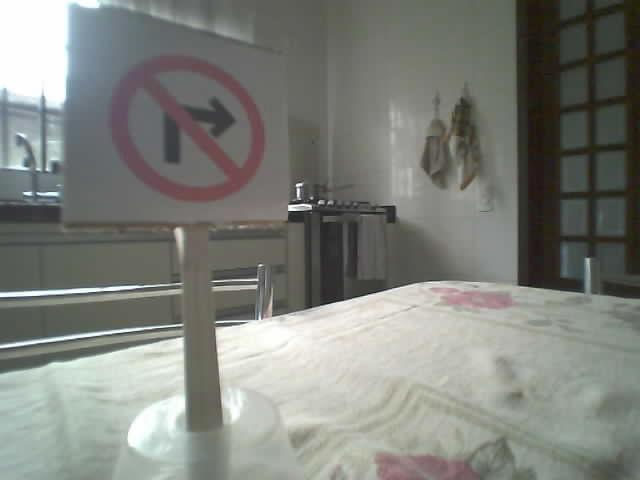R-4b_proibido-direita: (109, 54, 264, 200)
